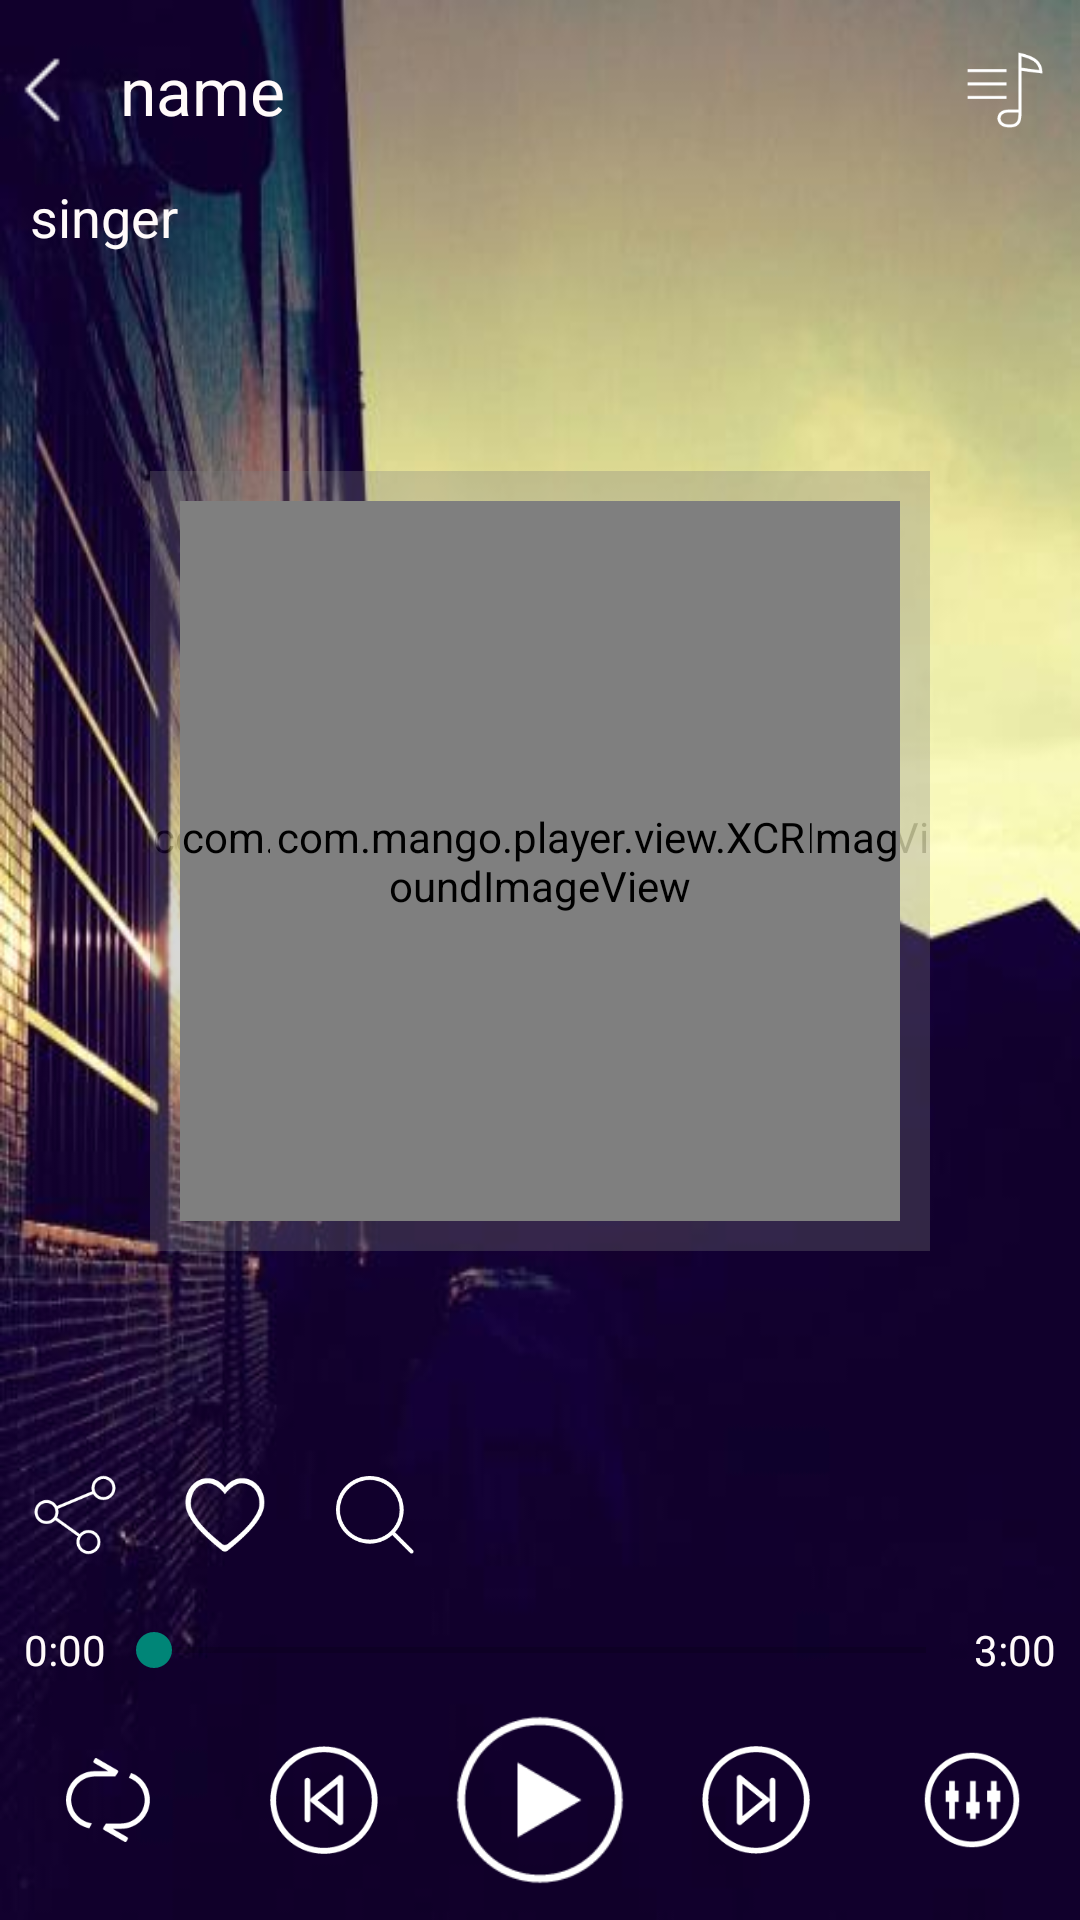

Icon bounding boxes for this 1080px×1920px phone screenshot, format detection(x1, y1, x2, y2):
back: detection(24, 58, 60, 122)
favorite: detection(150, 1440, 265, 1590)
music nex: detection(702, 1746, 810, 1854)
music pre: detection(270, 1746, 378, 1854)
play music: detection(457, 1717, 623, 1883)
search: detection(336, 1476, 414, 1554)
share: detection(0, 1442, 150, 1589)
sound effect: detection(924, 1752, 1020, 1848)
